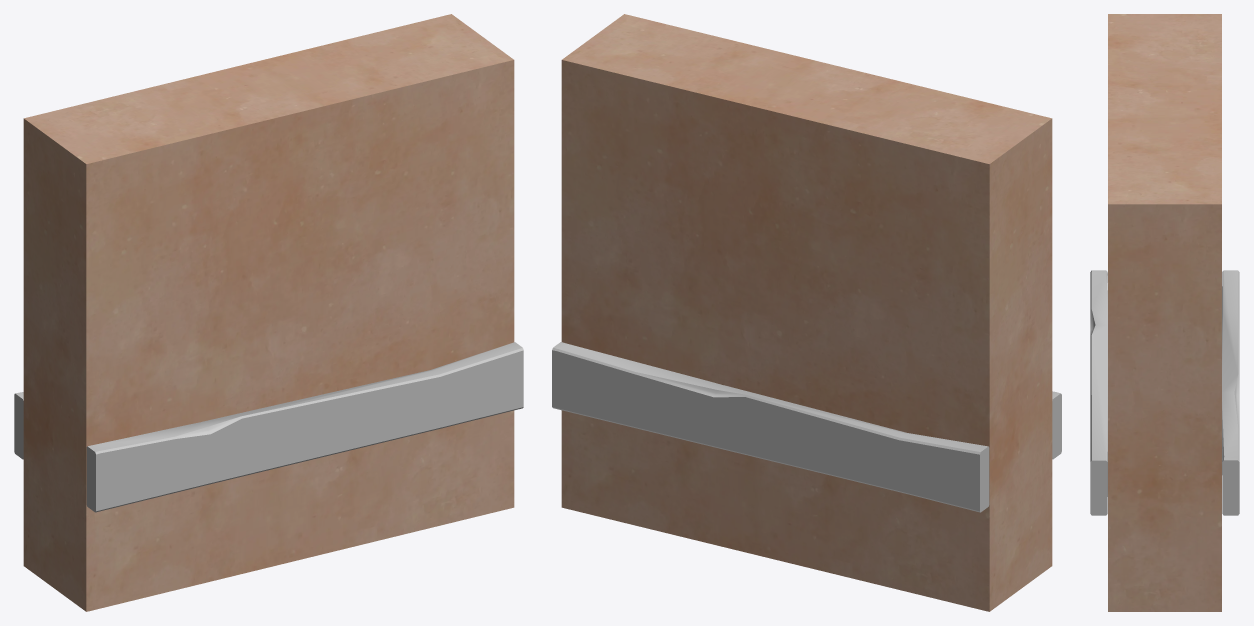
3 renders of one model, left to right at view 1: azimuth 30°, elevation 25°; view 2: azimuth 150°, elevation 25°; view 3: azimuth 270°, elevation 25°, orthographic. The views are drawn at different scales.
Visible parts, largest first — view 1: SM_BB_T4_Wall_Med_01_LOD0; view 2: SM_BB_T4_Wall_Med_01_LOD0; view 3: SM_BB_T4_Wall_Med_01_LOD0.
Boxes of the visible parts, x1=… form: SM_BB_T4_Wall_Med_01_LOD0: x1=14, y1=14, x2=523, y2=611; SM_BB_T4_Wall_Med_01_LOD0: x1=552, y1=14, x2=1061, y2=611; SM_BB_T4_Wall_Med_01_LOD0: x1=1090, y1=14, x2=1239, y2=611.
Size of the model in its own units: 1.5 by 1.5 by 0.4973.
